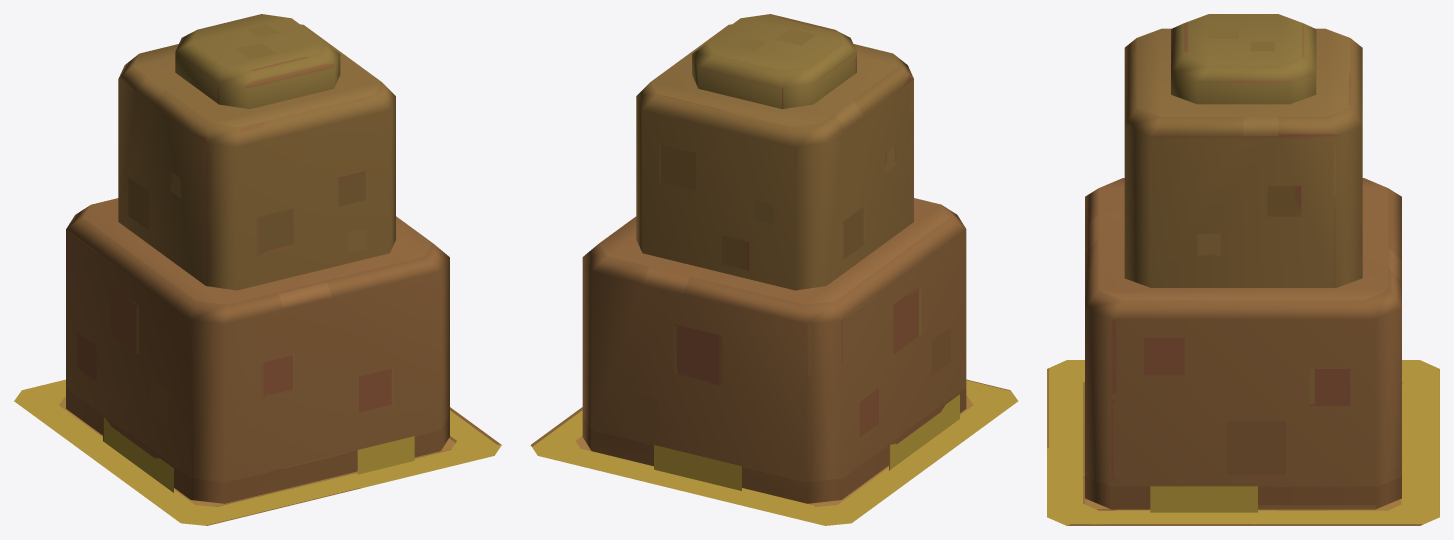
File: B_mountain1_rock01.fbx
3 renders of one model, left to right at view 1: azimuth 30°, elevation 25°; view 2: azimuth 150°, elevation 25°; view 3: azimuth 270°, elevation 25°, orthographic. The views are drawn at different scales.
Visible parts, largest first — view 1: model 1, model; view 2: model 1, model; view 3: model 1, model.
Part boxes in pixels (x1=…): model 1: x1=14, y1=14, x2=501, y2=525; model: x1=14, y1=379, x2=501, y2=525; model 1: x1=531, y1=14, x2=1017, y2=525; model: x1=531, y1=379, x2=1017, y2=525; model 1: x1=1047, y1=14, x2=1439, y2=525; model: x1=1047, y1=360, x2=1439, y2=525.
Size of the model in its own units: 3.39 by 3.87 by 3.39.
